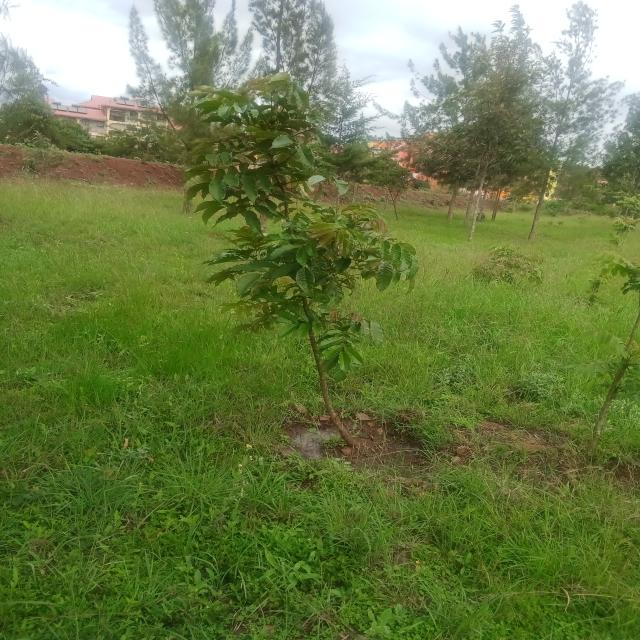Polyscias Kikuyensis: (182, 80, 428, 456)
